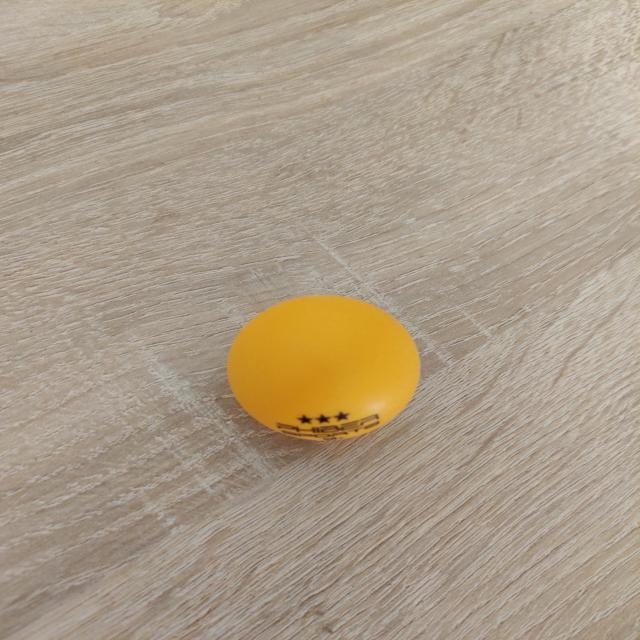orange: (224, 293, 424, 445)
